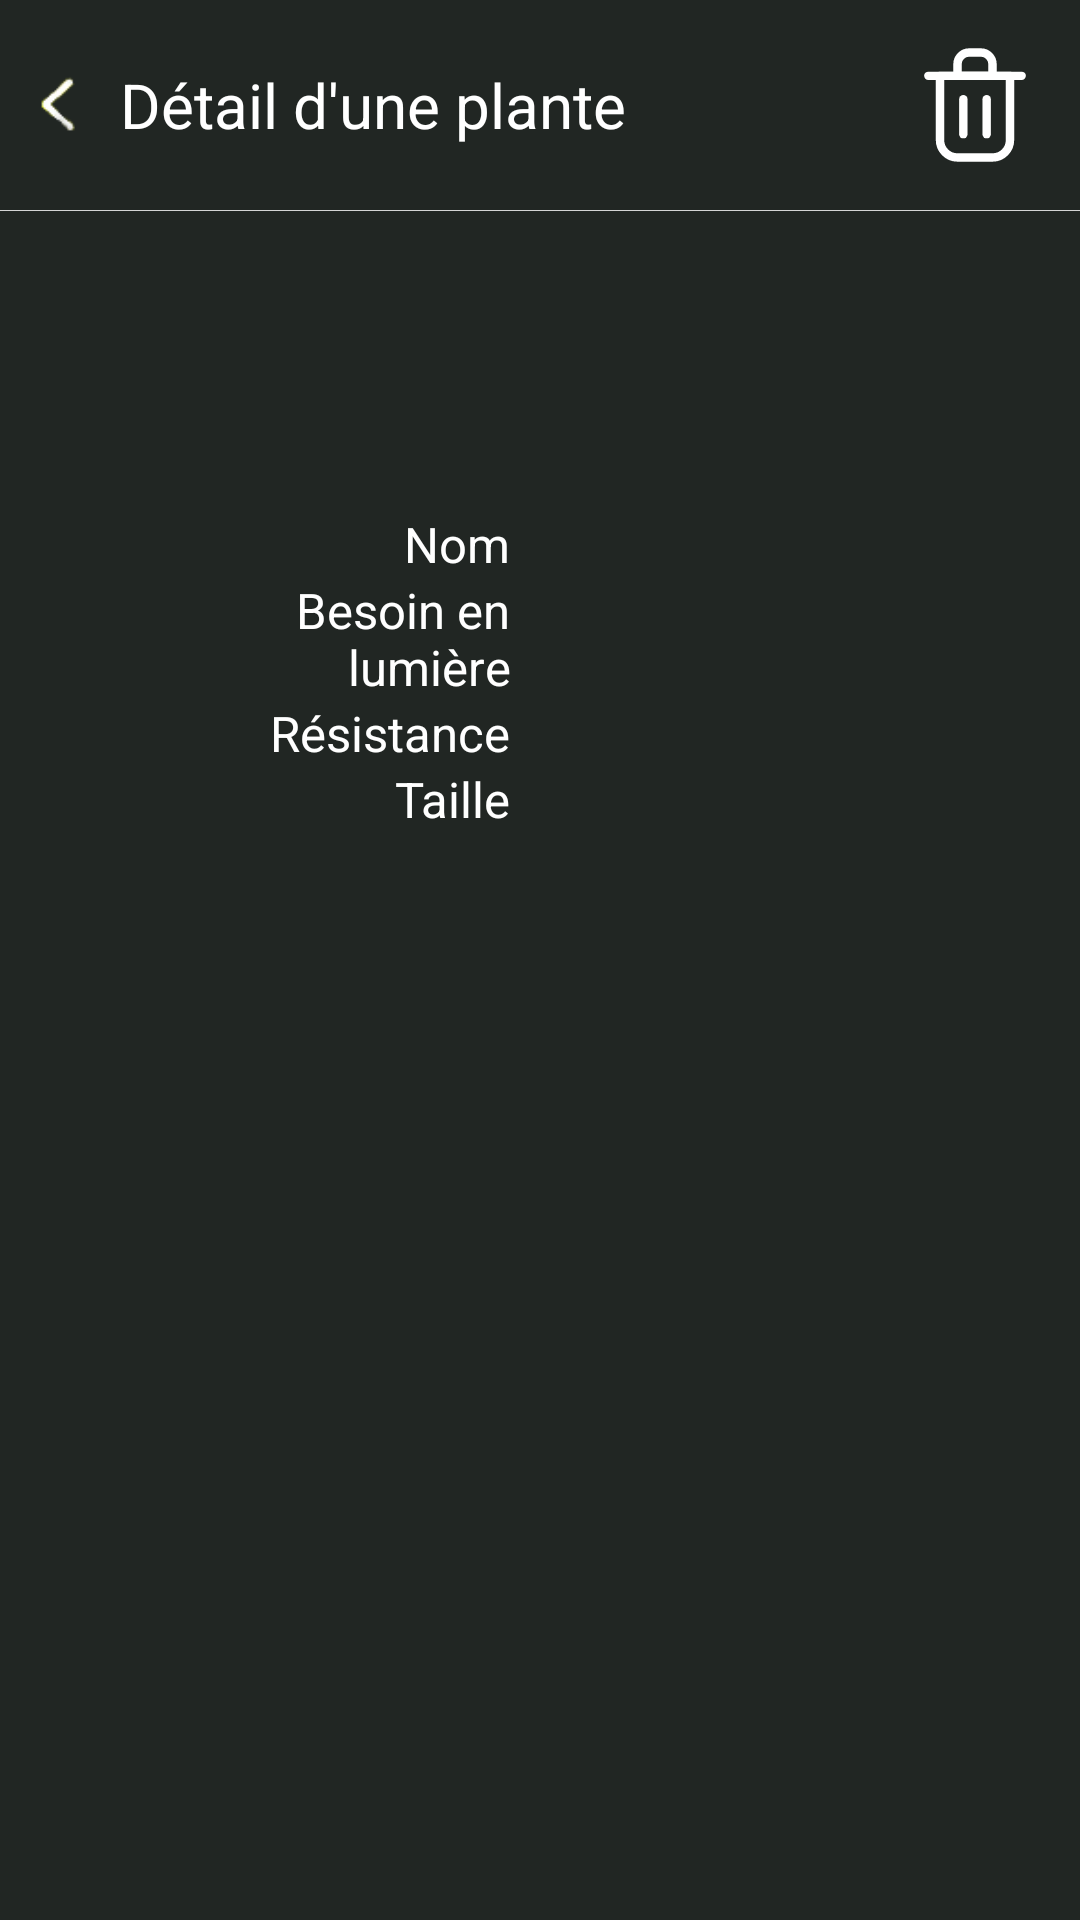

Screen size 1080w x 1920h. Icon name, then its center in pixels as point (x, y):
delete: point (975, 105)
